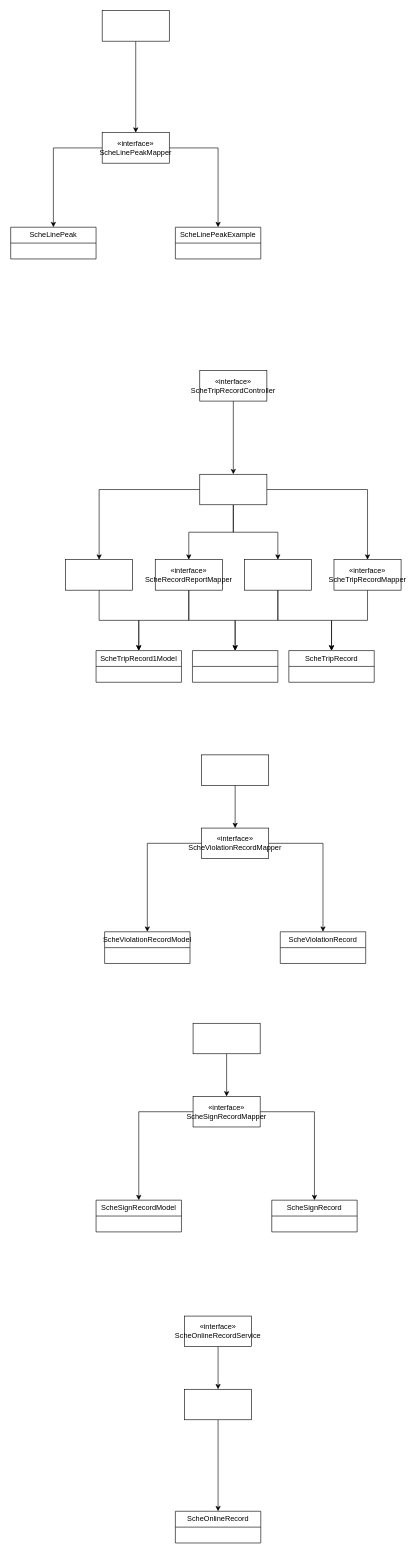
This 417x1556 diagram has some shape labels left out. The shapes that lost their labels are listed below. From the top down, each one's box as (x1, y1, x2, y2) in pixels, then its label:
(102, 10, 169, 41): «interface» ScheLinePeakService
(199, 474, 267, 505): «interface» ScheTripRecordService
(65, 559, 133, 590): «interface» CurrentScheTripRecordMapper
(244, 559, 311, 590): «interface» ScheTripRecordLogMapper
(192, 650, 278, 682): ScheTripRecordLogRespons
(201, 754, 269, 785): «interface» ScheViolationRecordService
(192, 1023, 260, 1054): «interface» ScheSignRecordService
(184, 1389, 252, 1420): «interface» ScheOnlineRecordMapper
